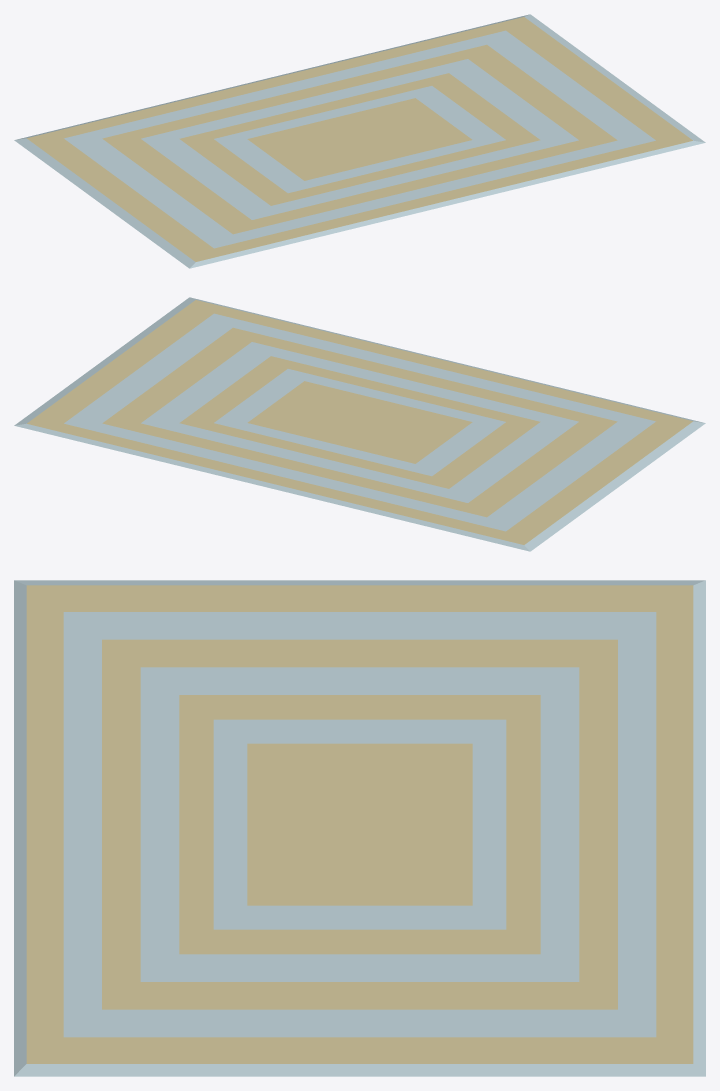
File: 01kleed_vierkant_nieuwestijl.fbx
The picture shows the model from 3 angles, top to bottom: view 1: azimuth 30°, elevation 25°; view 2: azimuth 150°, elevation 25°; view 3: azimuth 270°, elevation 25°; orthographic projection. The views are drawn at different scales.
Parts seen in each view (by area): view 1: pCube182; view 2: pCube182; view 3: pCube182.
Part boxes in pixels (x1,y1,x2,y2): pCube182: [14, 14, 705, 268]; pCube182: [14, 297, 705, 551]; pCube182: [14, 580, 705, 1076].
Bounding box in the file's own units: 3.28 × 0.0119 × 1.93.
